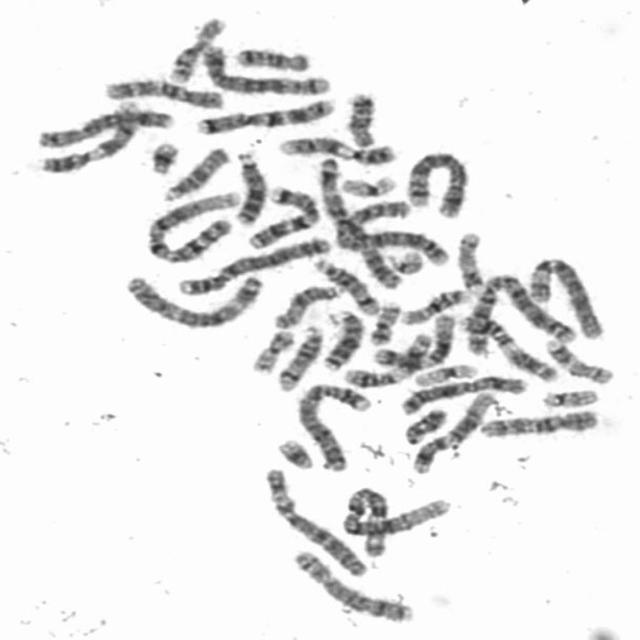A1: (140, 184, 242, 266), (334, 483, 453, 545)
A2: (456, 266, 580, 357), (335, 201, 451, 271)
A3: (313, 154, 406, 289), (118, 268, 266, 330)
B4: (170, 231, 333, 297), (290, 376, 375, 473)
B5: (193, 39, 333, 97), (400, 145, 470, 220)
C10: (97, 73, 227, 110), (473, 404, 602, 440)
C11: (454, 307, 561, 383), (335, 328, 434, 390)
C12: (405, 386, 499, 476), (368, 306, 458, 369)
C6: (256, 462, 370, 579), (522, 252, 607, 342)
C7: (190, 91, 338, 136), (241, 180, 323, 250)
C8: (286, 544, 418, 625), (30, 103, 176, 150)
C9: (32, 95, 143, 175), (271, 131, 399, 166)
D13: (226, 144, 268, 226), (316, 304, 366, 372)
D14: (306, 253, 382, 317), (270, 319, 327, 393)
D15: (156, 142, 232, 202), (268, 279, 344, 330)
E16: (162, 12, 228, 84), (394, 284, 473, 326)
E17: (539, 333, 616, 386), (451, 225, 487, 293)
E18: (229, 41, 313, 73), (340, 87, 379, 149)
F19: (408, 358, 480, 387), (335, 168, 400, 198)
F20: (245, 324, 298, 375), (363, 295, 403, 347)
G21: (270, 434, 316, 472), (142, 135, 182, 176)
G22: (536, 383, 602, 409), (381, 247, 427, 276)
X: (394, 370, 530, 416)
